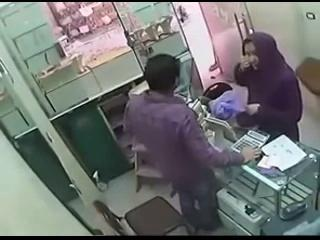Normal: (123, 54, 264, 230), (234, 32, 304, 142), (92, 196, 194, 236), (230, 128, 270, 154)
